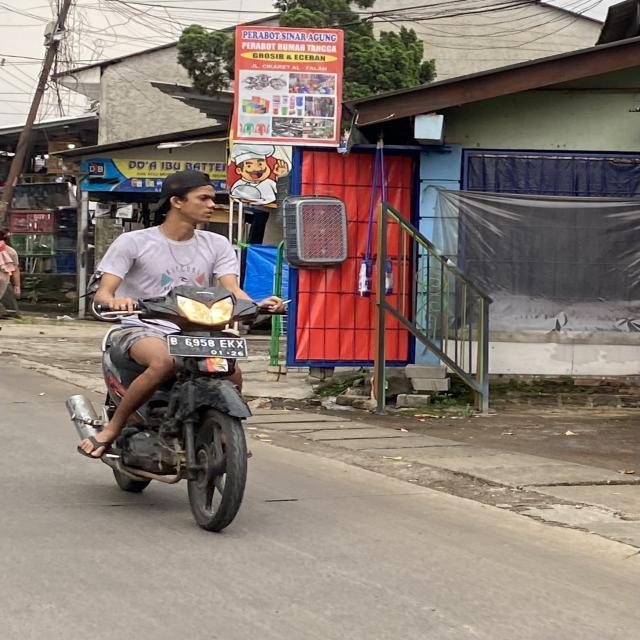Number Plate: (167, 335, 246, 357)
